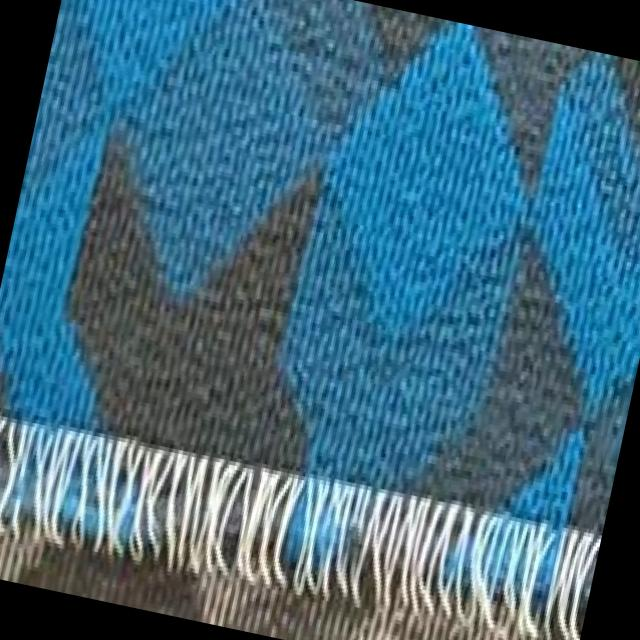gray stitch: (0, 393, 601, 640)
